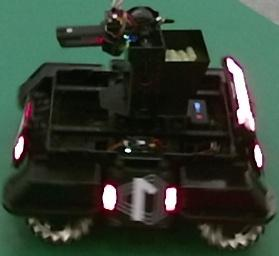armor_1: (103, 183, 178, 215)
light: (226, 57, 259, 132)
